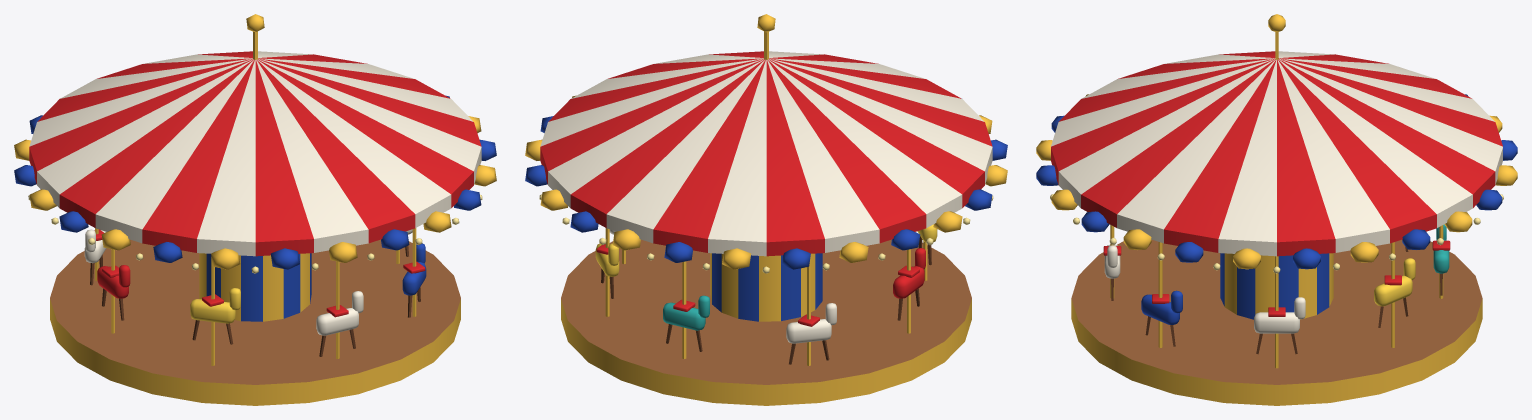
Rendered from Carousel.fbx.
The picture shows the model from 3 angles, left to right: view 1: azimuth 30°, elevation 25°; view 2: azimuth 150°, elevation 25°; view 3: azimuth 270°, elevation 25°; orthographic projection.
Visible parts, largest first — view 1: Carousel; view 2: Carousel; view 3: Carousel.
Boxes of the visible parts, left/top/right/bottom form: Carousel: left=14, top=14, right=496, bottom=405; Carousel: left=525, top=14, right=1007, bottom=405; Carousel: left=1036, top=14, right=1517, bottom=405.
Bounding box in the file's own units: 9.4 × 6.55 × 9.37.
Materials: 2 (2 with a texture image).
